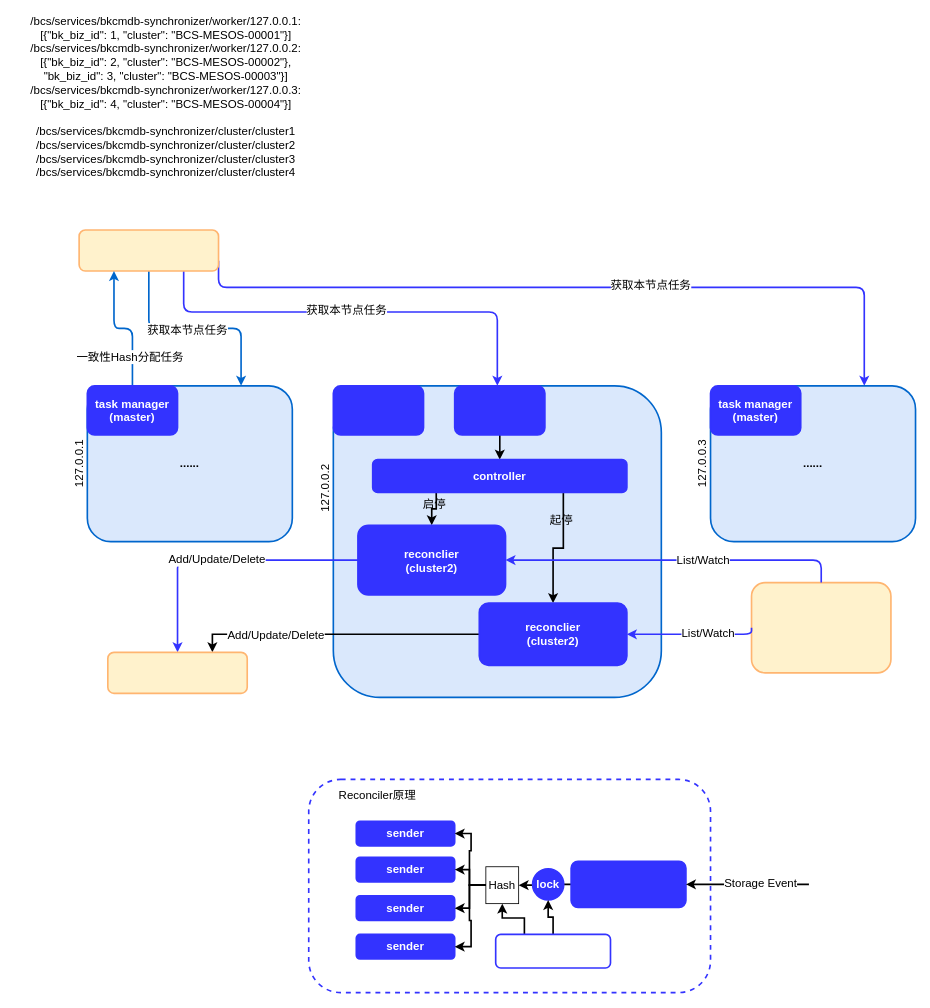
Image size: 930x1008. Some labels were removed from this diagram. Each missing label, with the centre of its shape:
BCS Storage: [820,627]
BK CMDB: [177,672]
event queue: [628,884]
task informer: [499,410]
task manager: [378,410]
Zookeeper: [148,250]
周期性全量同步: [552,950]
